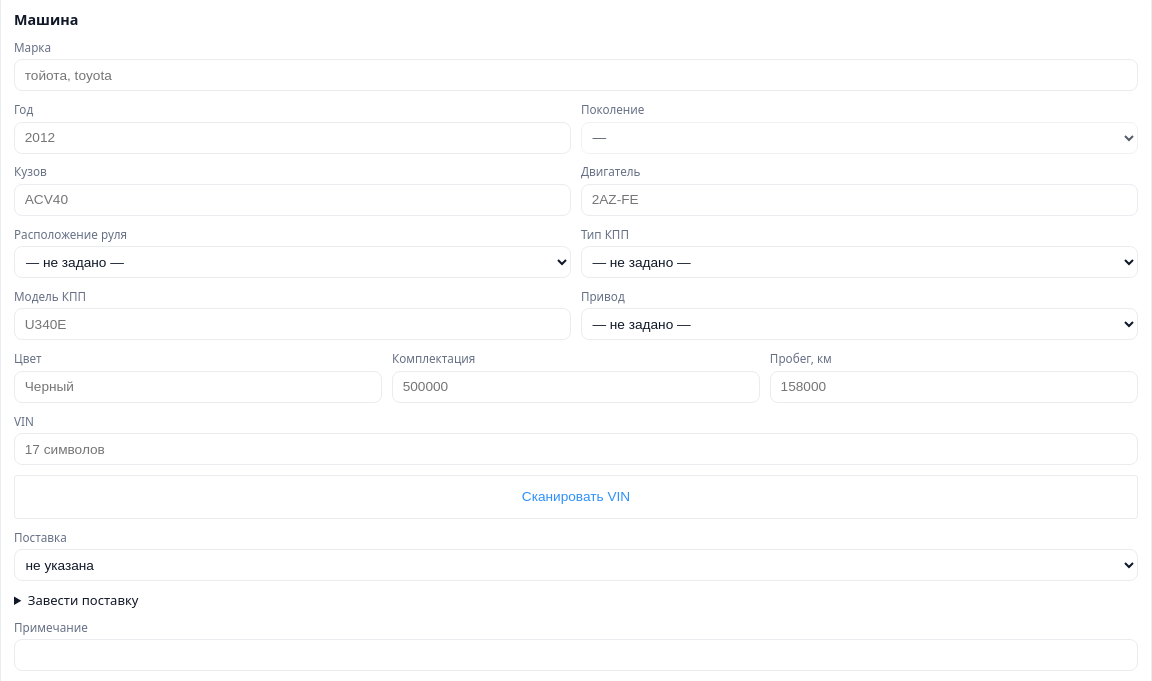
карточка машины › пробег с буквами не отправляется — сказано почему
Type "toy" into the field with placeholder "тойота, toyota".
click(576, 75); type("toy")  # box [14,59,1138,91]
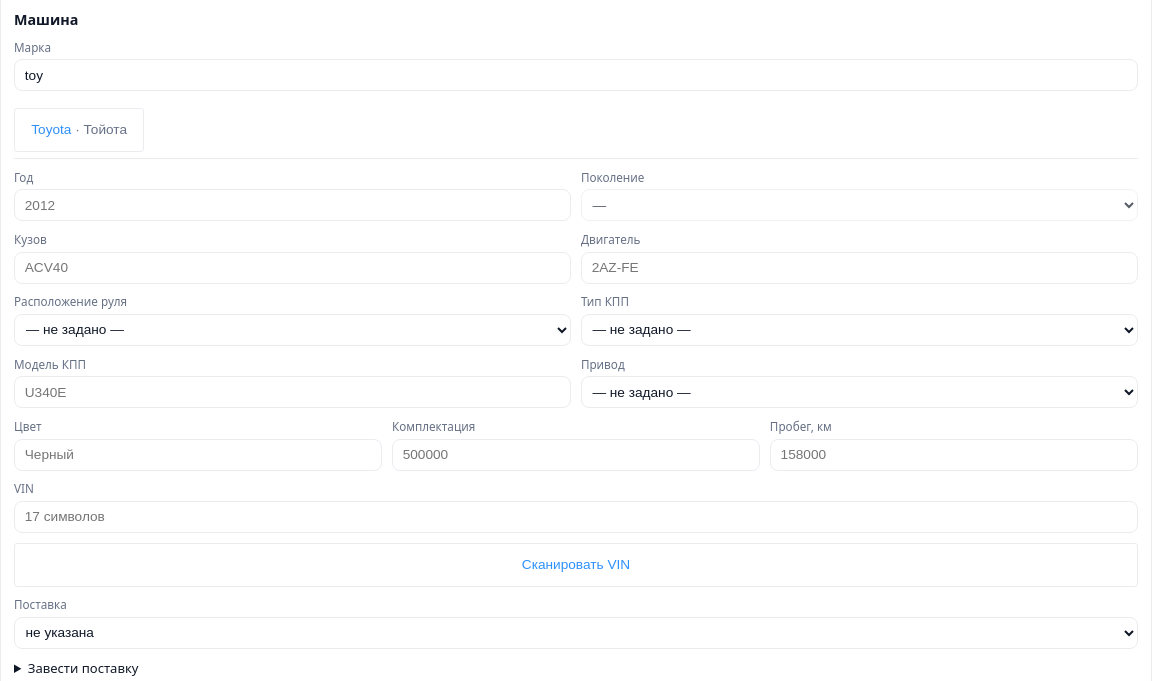
Click the button "Toyota · Тойота".
click(79, 130)  # box [14,108,144,152]
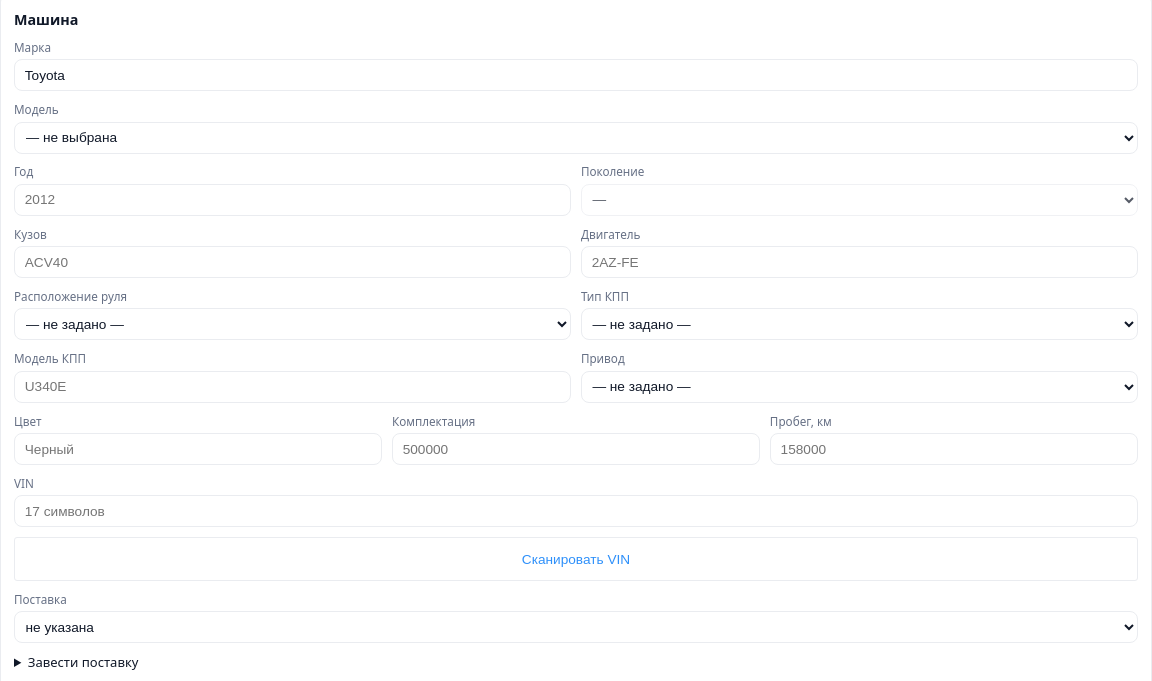
Type "158 тыс" into the field labelled "Пробег, км".
click(954, 449); type("158 тыс")  # box [770,433,1138,465]
(page scrolled)
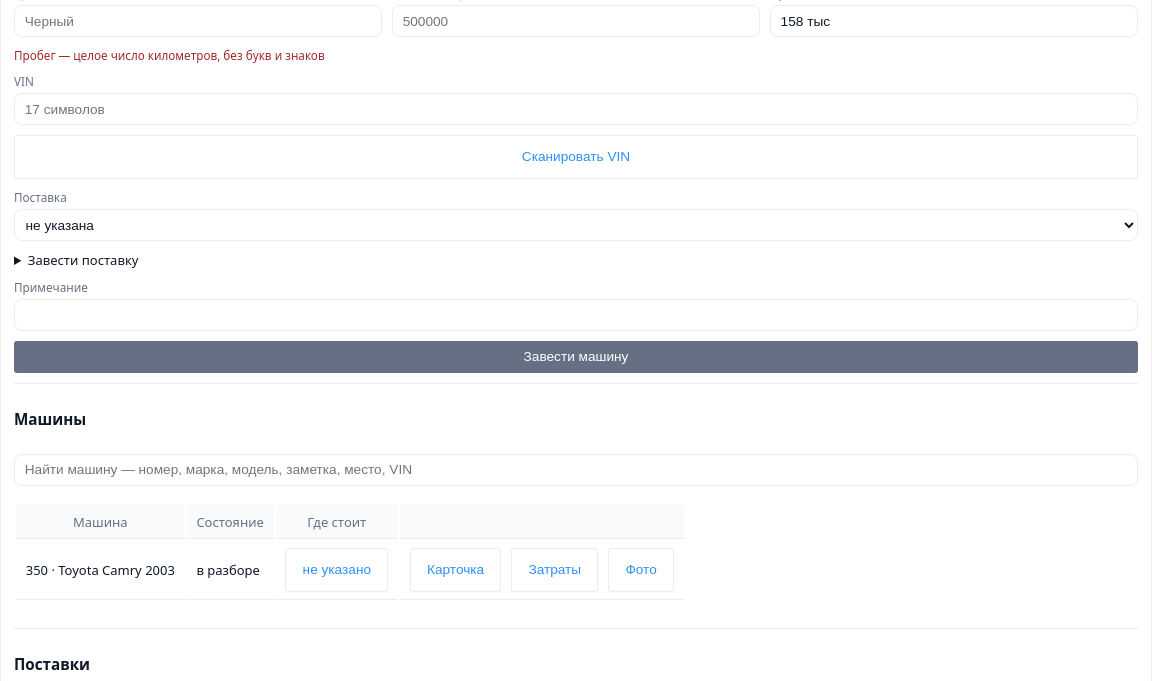
Expected: the text "Пробег — целое число километров, без букв и знаков" is shown, [14,47,325,63]
Expected: the button "Завести машину" is disabled, [14,341,1138,373]
